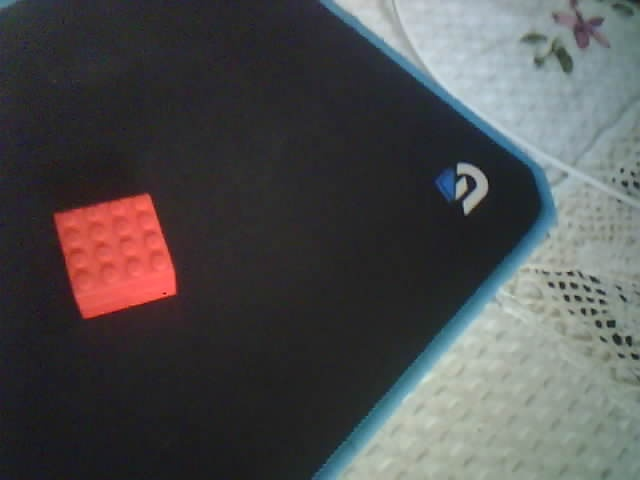lego: (51, 192, 178, 321)
